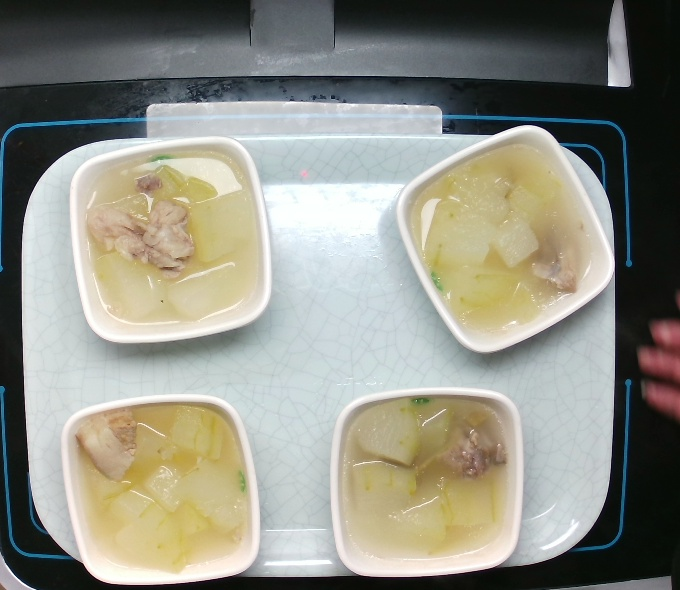wcq-DongGuaZhuRouTang: (403, 141, 607, 335), (74, 404, 263, 580), (77, 154, 266, 330), (339, 401, 515, 559)
